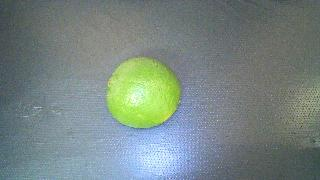EXPORTACION: (106, 57, 181, 128)
